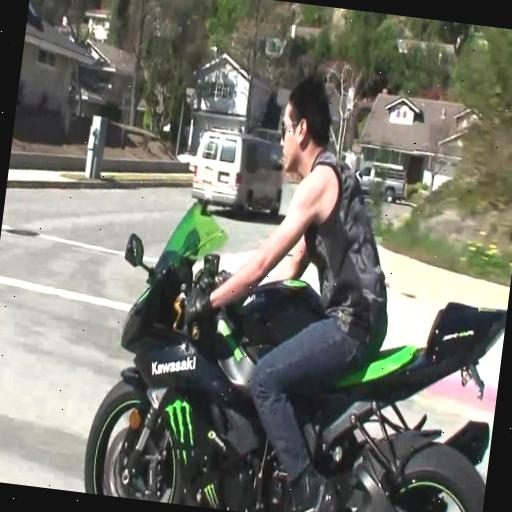no helmet: (152, 40, 412, 510)
